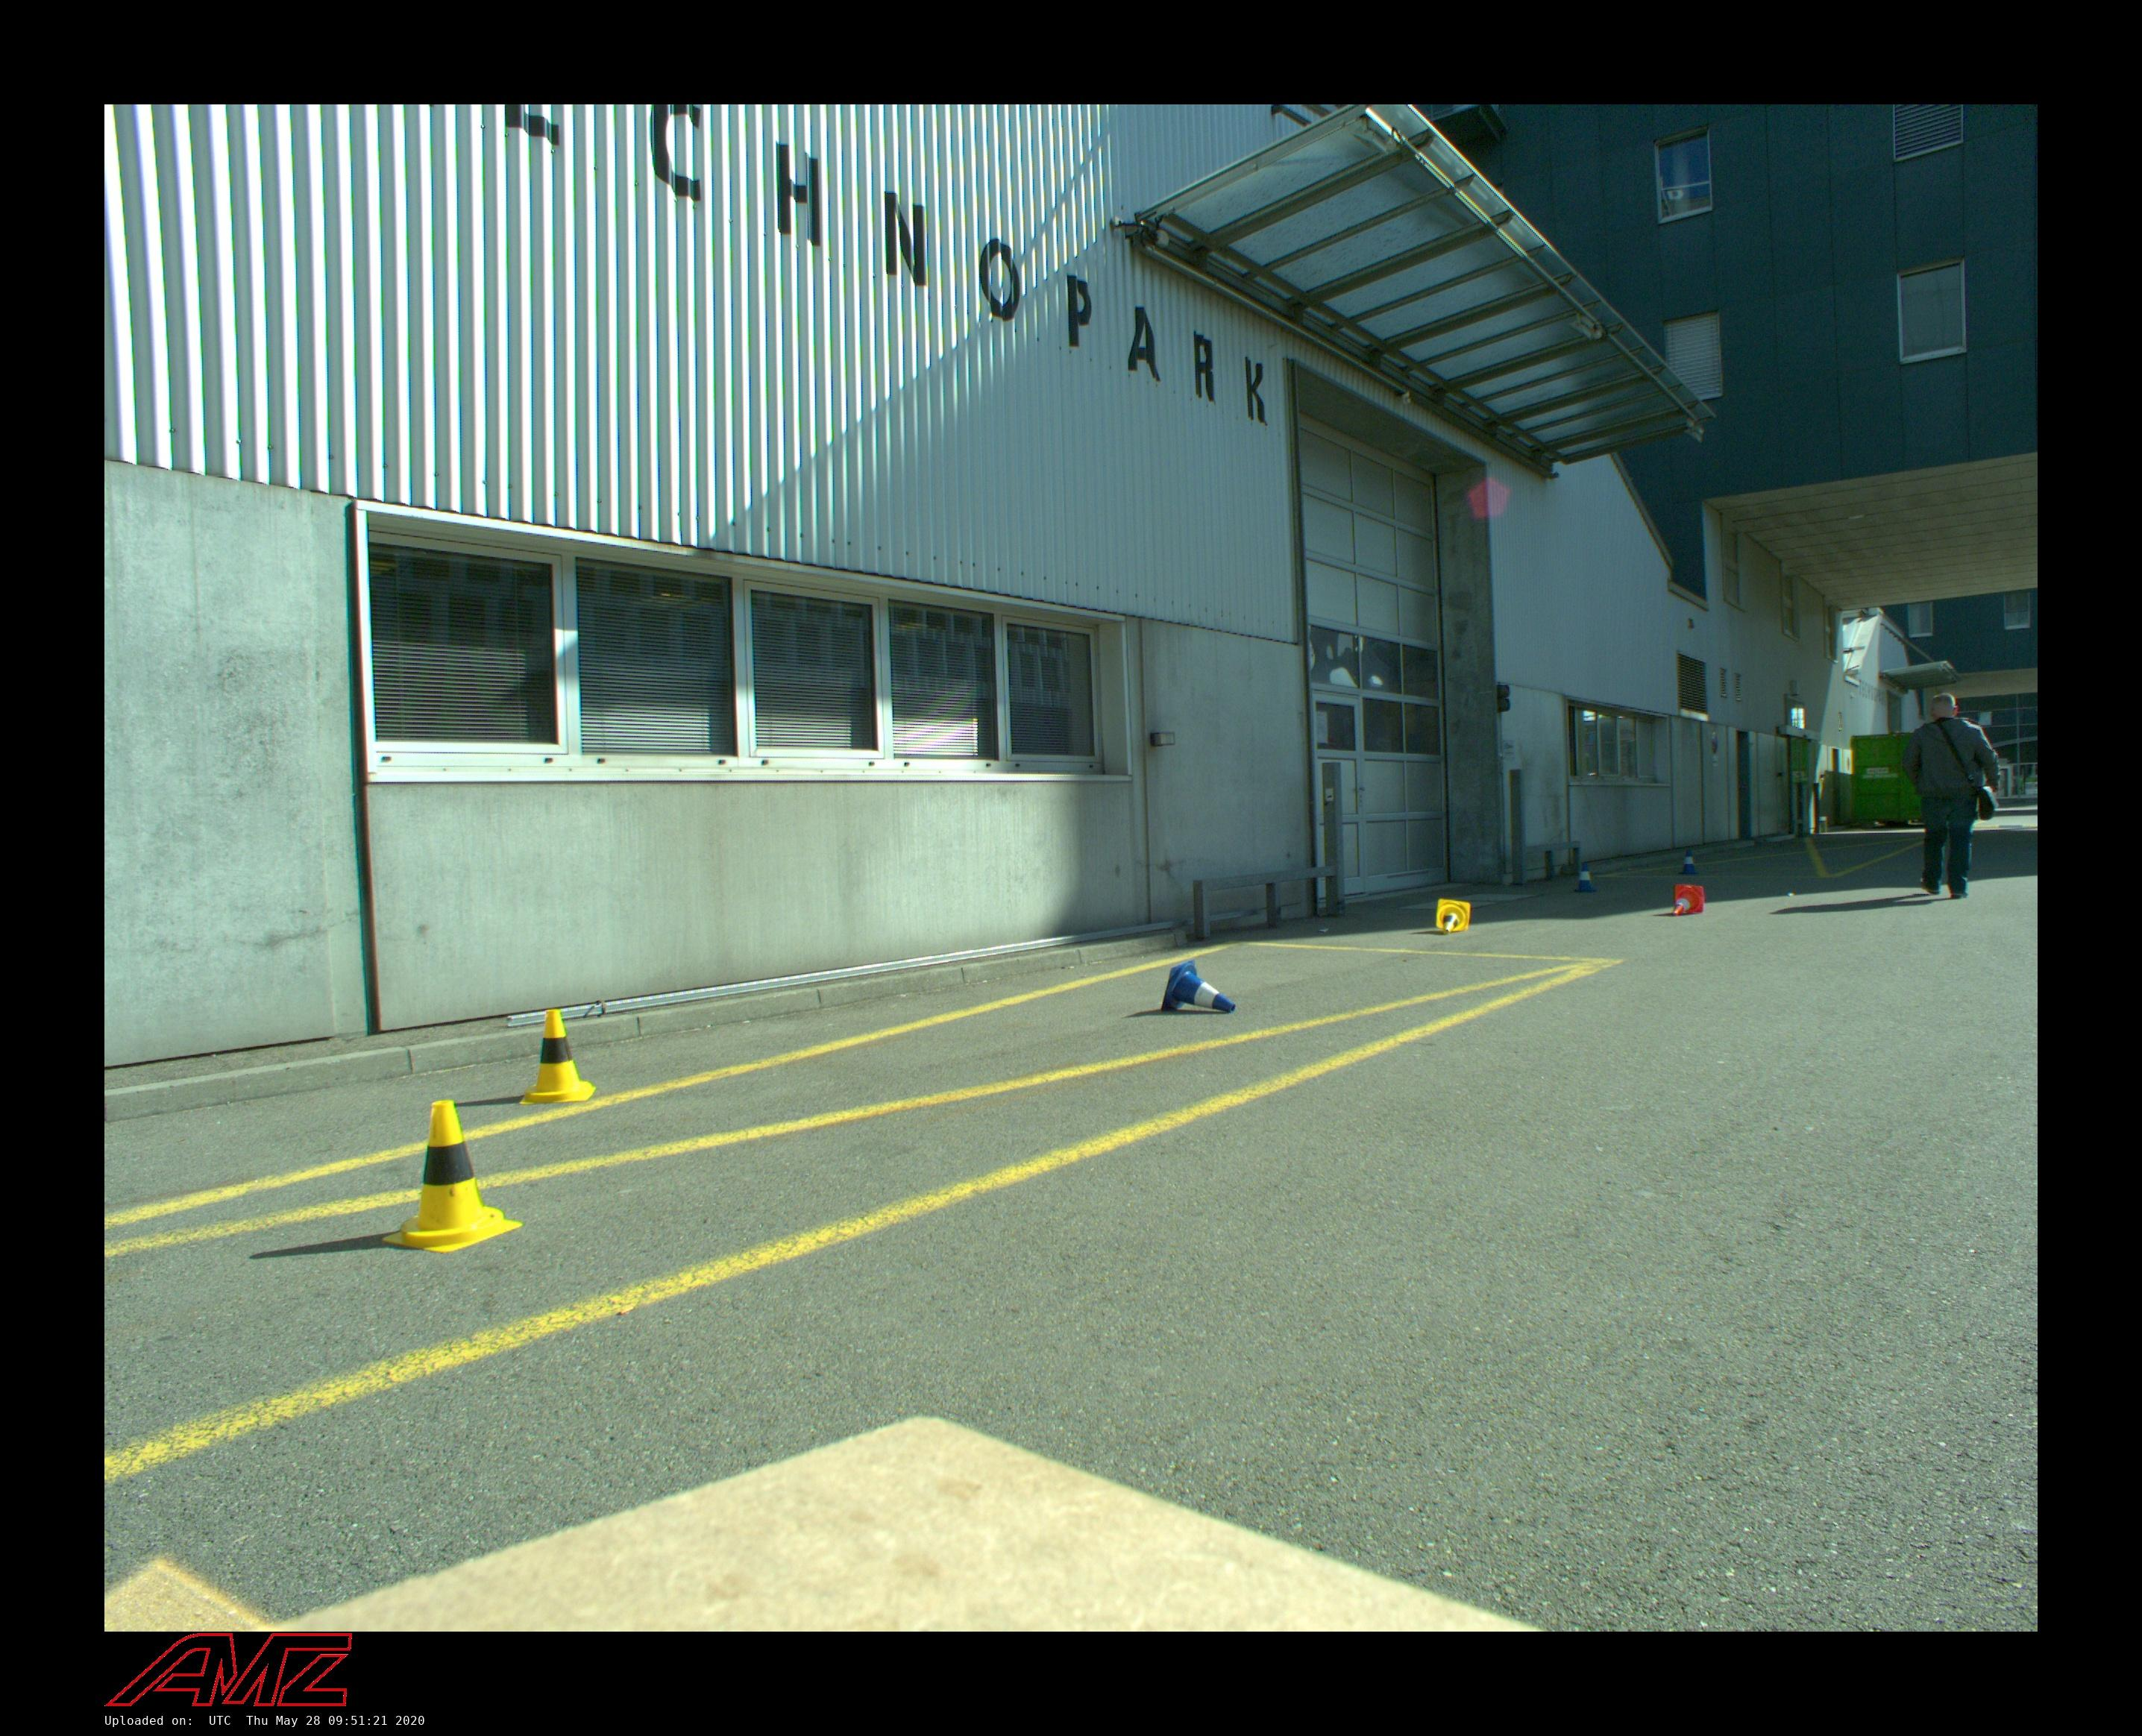blue_cone: (1160, 959, 1236, 1013), (1574, 864, 1597, 893), (1679, 850, 1698, 875)
orange_cone: (1672, 884, 1704, 916)
yellow_cone: (382, 1101, 524, 1253), (519, 1010, 597, 1104), (1436, 898, 1471, 935)
